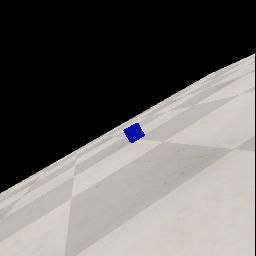box: (123, 123, 145, 143)
